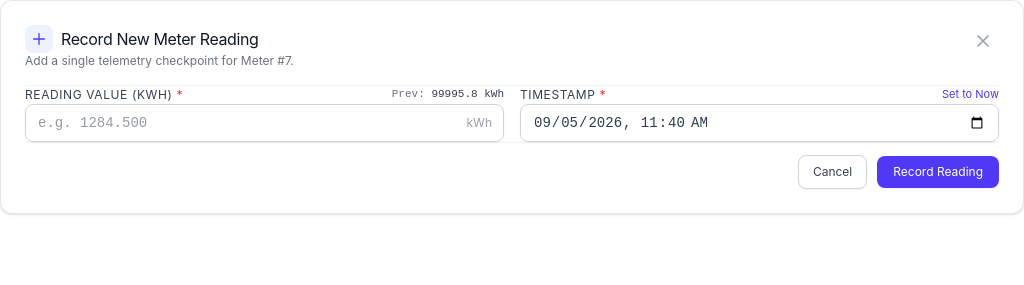
it: AddReadingForm.vue › shows rollover/reset warning when entered value is less than previous reading
This screenshot has width=1024, height=285.
Type "8.4" into the number field with id "reading-val" at (264, 123), box top-left (25, 104), bottom-right (504, 142)
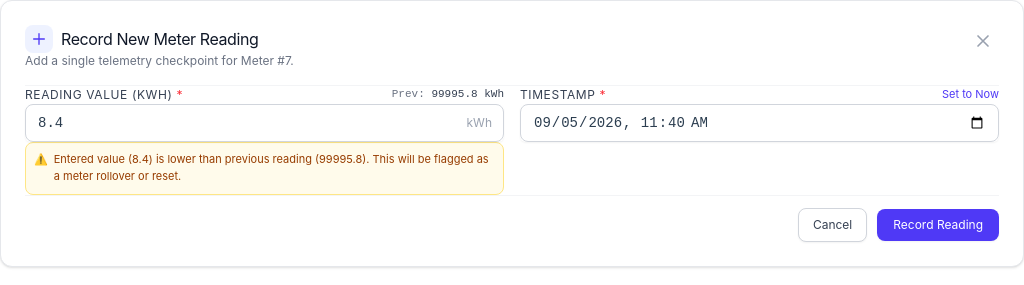
expect the text "Entered value (8.4) is lower than previous reading" is shown: met, box top-left (54, 151), bottom-right (495, 186)
expect the text "meter rollover or reset" is shown: met, box top-left (54, 152), bottom-right (489, 183)
